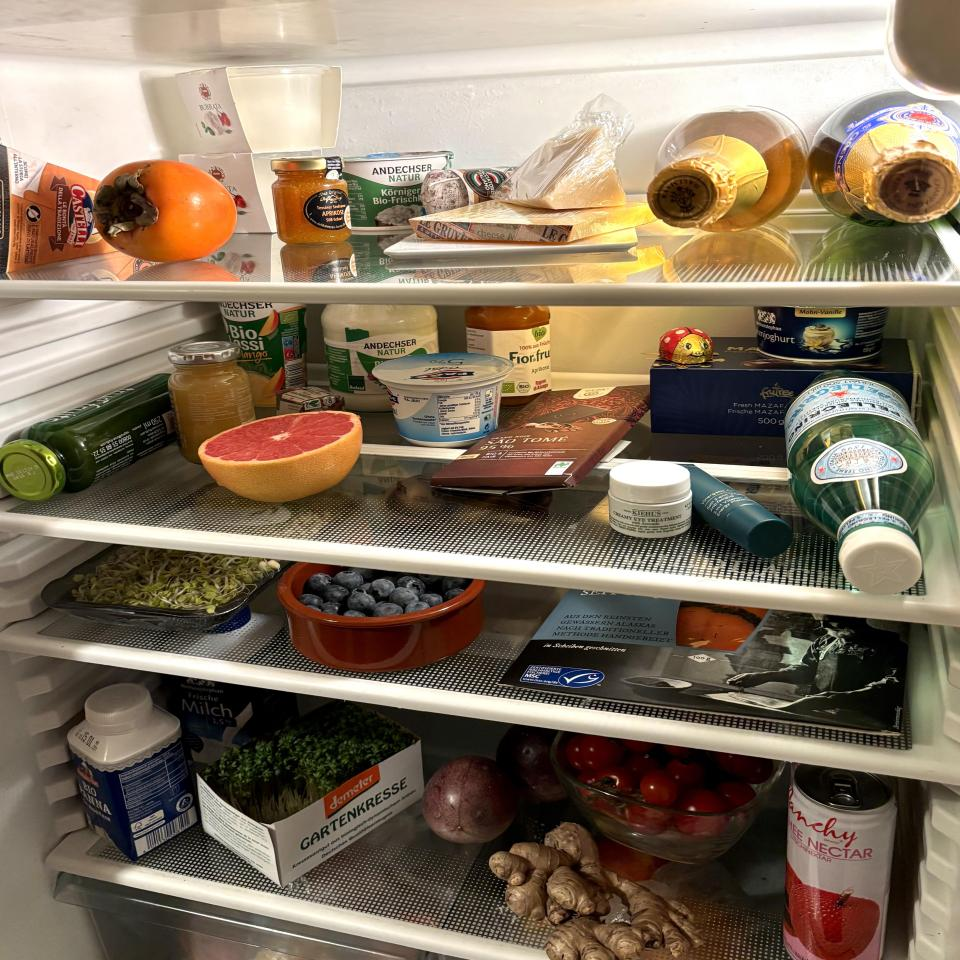Queso: (511, 130, 634, 210)
Tomate: (570, 732, 766, 836)
